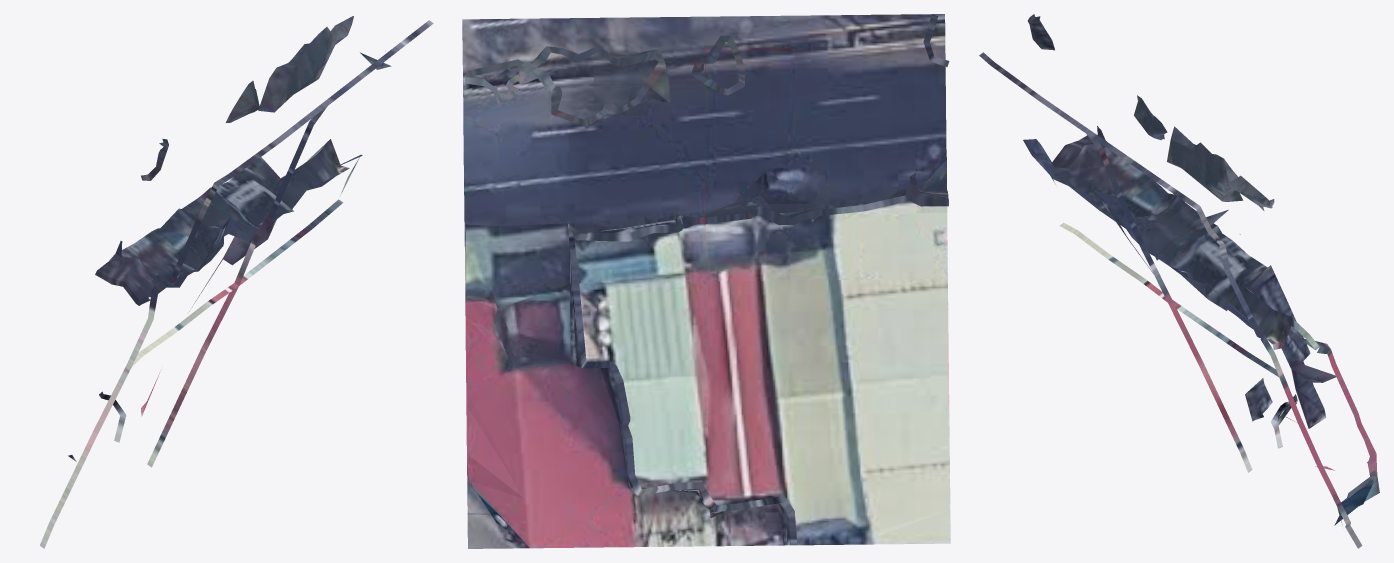
The picture shows the model from 3 angles, left to right: view 1: azimuth 30°, elevation 25°; view 2: azimuth 150°, elevation 25°; view 3: azimuth 270°, elevation 25°; orthographic projection. The views are drawn at different scales.
Bounding box in the file's own units: 38.04 × 37.42 × 33.03.
Materials: 1 (1 with a texture image).
